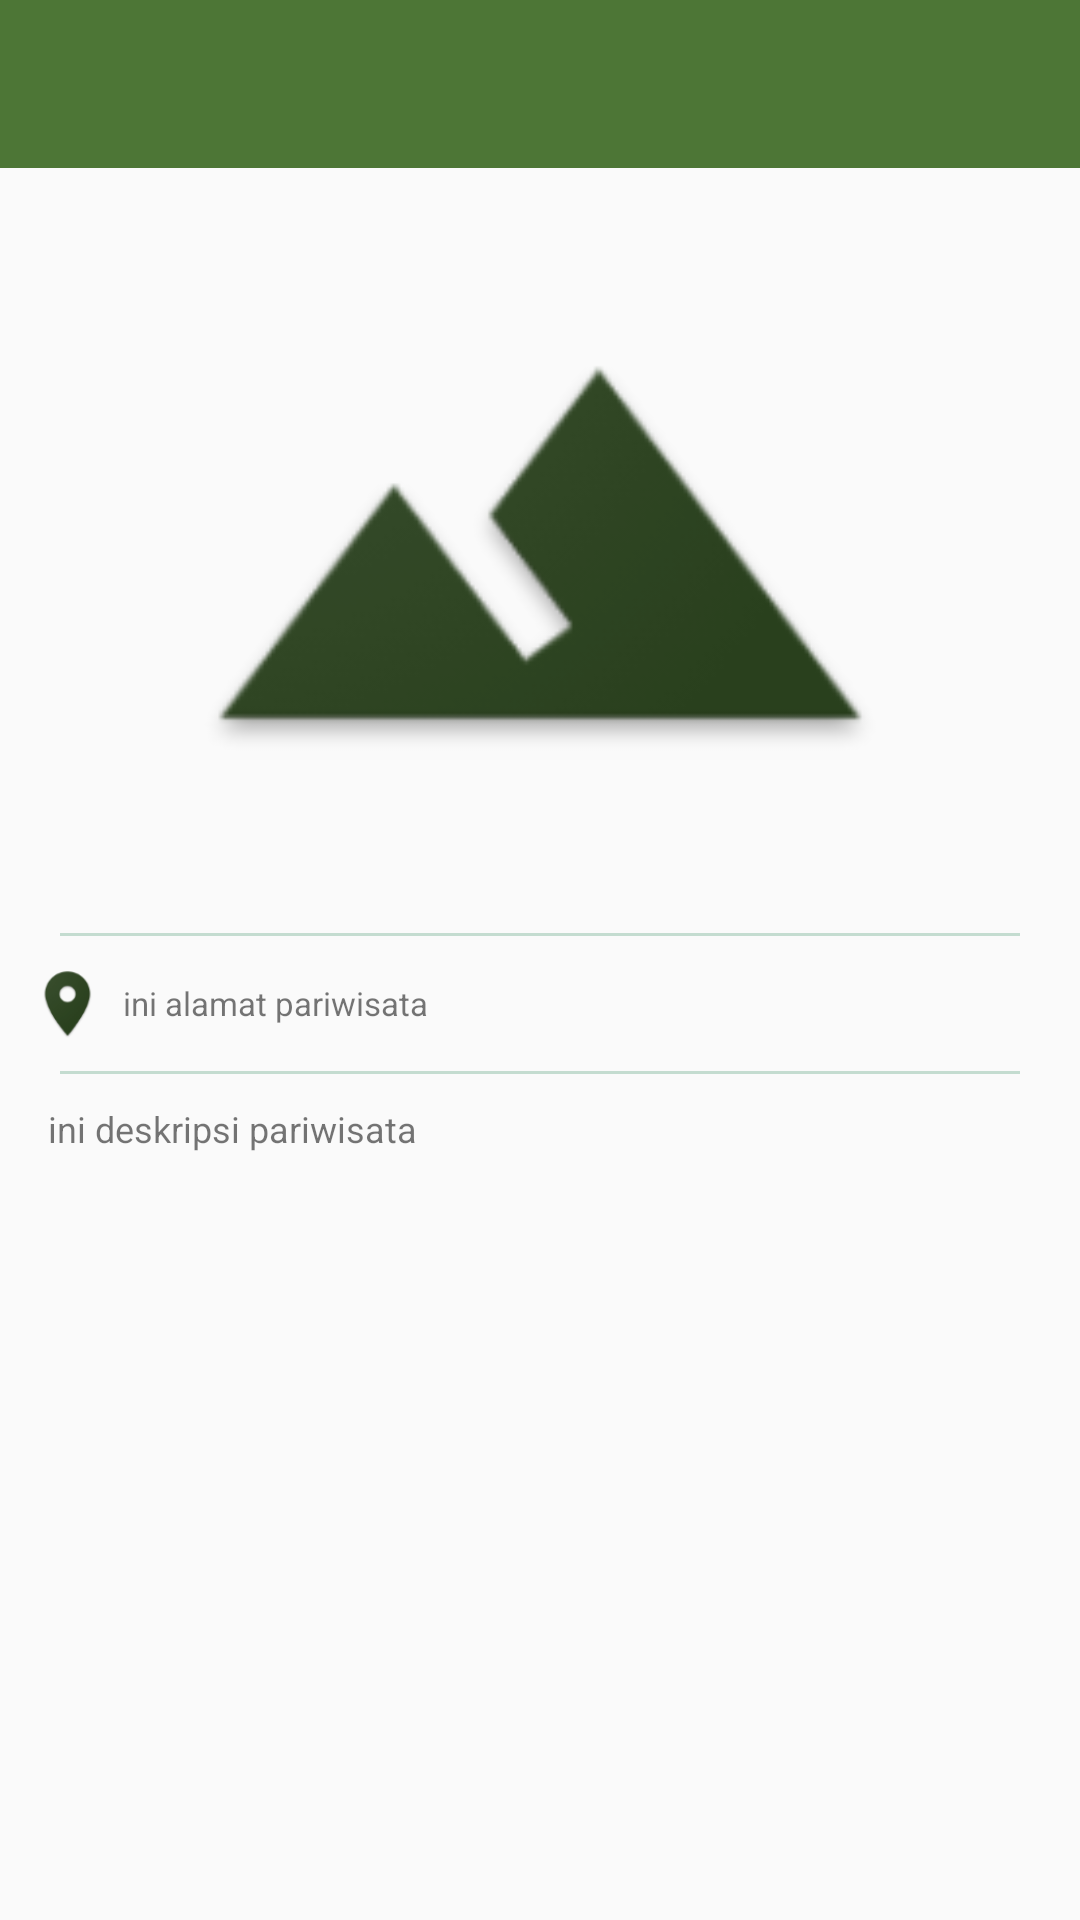

Screen size 1080x1920. Icon name, then its box in pixels as (x1, y1, x2, y2):
location: (44, 971, 91, 1036)
